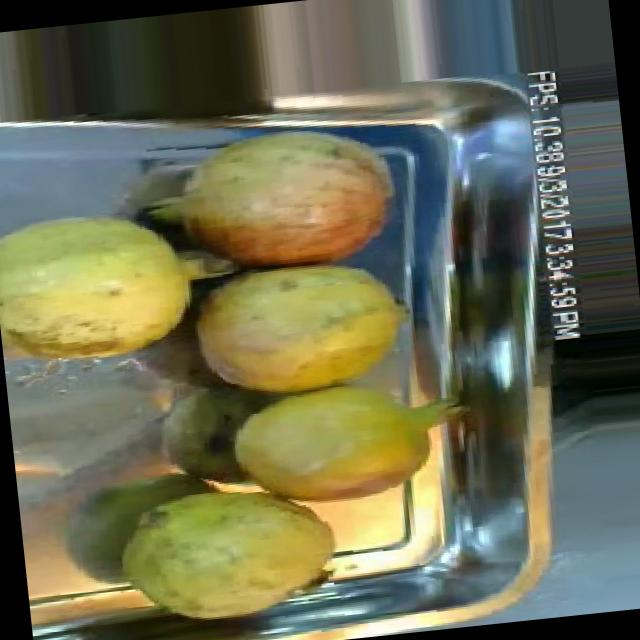fruit: (168, 244, 432, 416), (0, 187, 223, 385), (212, 360, 454, 533)
